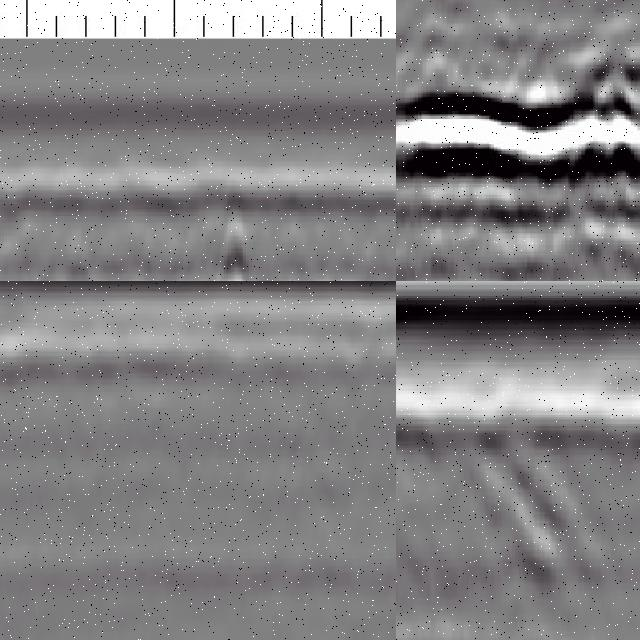crack: (222, 182, 253, 282)
loose: (397, 10, 640, 251), (397, 411, 640, 610)
